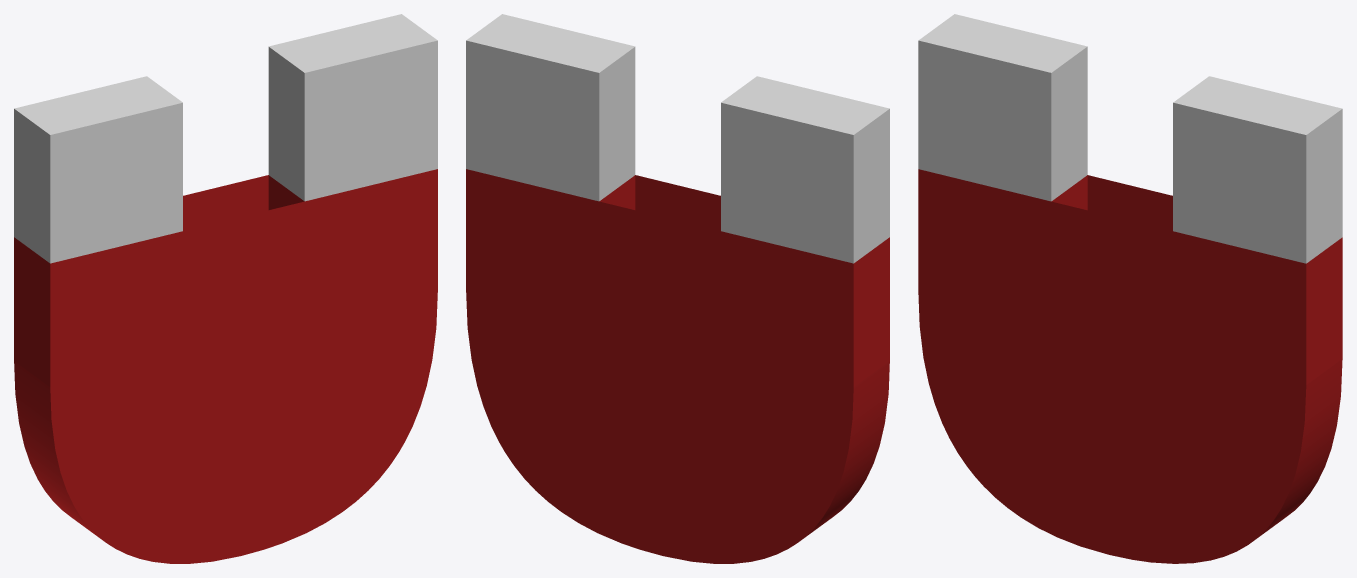
The model's file is Magnet.fbx.
3 views of the same model, side by side, from view 1: azimuth 30°, elevation 25°; view 2: azimuth 150°, elevation 25°; view 3: azimuth 330°, elevation 25° (orthographic).
Parts seen in each view (by area): view 1: Extrude_1; view 2: Extrude_1; view 3: Extrude_1.
Boxes of the visible parts, x1=… form: Extrude_1: x1=14, y1=14, x2=437, y2=563; Extrude_1: x1=466, y1=14, x2=889, y2=563; Extrude_1: x1=918, y1=14, x2=1342, y2=563.
Bounding box in the file's own units: 124 × 142 × 20.
